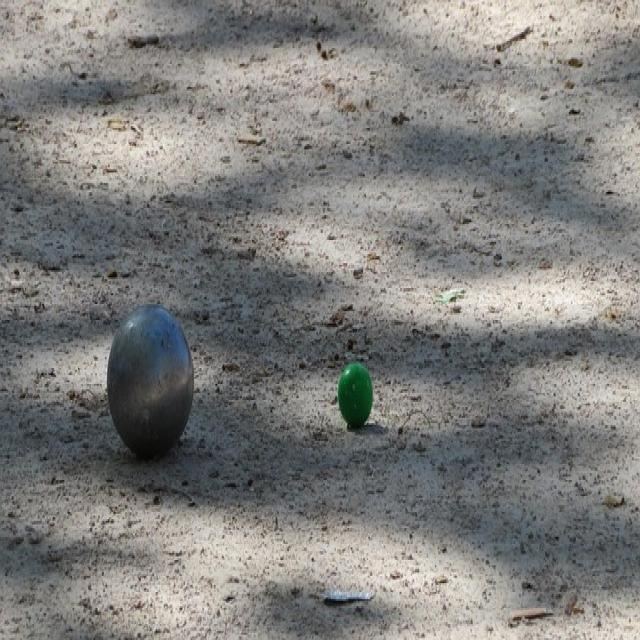hatball: (332, 356, 378, 436)
petanque: (103, 303, 197, 462)
